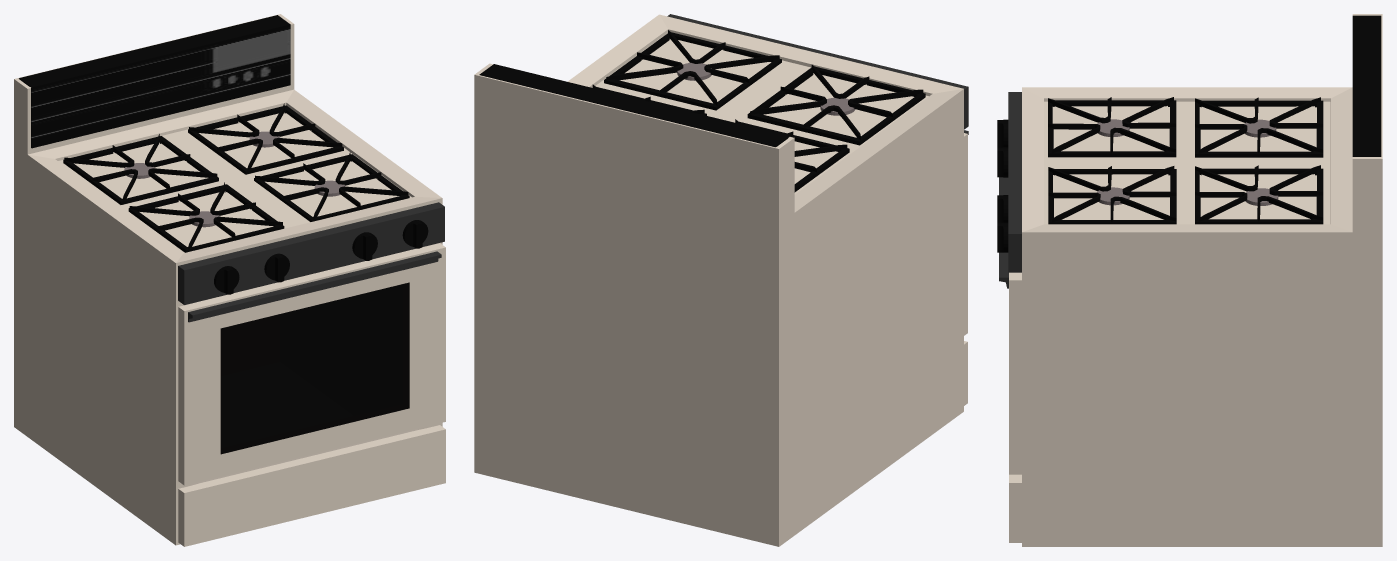
The model's file is stove1.obj.
The picture shows the model from 3 angles, left to right: view 1: azimuth 30°, elevation 25°; view 2: azimuth 150°, elevation 25°; view 3: azimuth 270°, elevation 25°; orthographic projection. The views are drawn at different scales.
Parts seen in each view (by area): view 1: stoveshell, ovenwindow, Ovendoor, PolyMesh_1, bottomstorage, Controlpanel, newcover_1, newcover_2, newcover_3, newcover, PolyMesh_4, knob_1 (+3 smaller); view 2: stoveshell, newcover_3, newcover, PolyMesh_1, newcover_2, Controlpanel, Ovendoor; view 3: stoveshell, newcover_3, newcover_2, PolyMesh_1, newcover_1, newcover, Ovendoor, Controlpanel, bottomstorage, PolyMesh_4.
Part boxes in pixels (x1,y1,x2,y2): stoveshell: [14, 14, 442, 545]; ovenwindow: [220, 282, 409, 454]; Ovendoor: [178, 243, 445, 485]; PolyMesh_1: [19, 15, 290, 148]; bottomstorage: [178, 425, 445, 546]; Controlpanel: [178, 202, 444, 304]; newcover_1: [188, 103, 343, 174]; newcover_2: [63, 134, 218, 204]; newcover_3: [128, 182, 284, 252]; newcover: [254, 152, 409, 221]; PolyMesh_4: [188, 251, 441, 322]; knob_1: [352, 232, 377, 260]; stoveshell: [474, 14, 963, 546]; newcover_3: [747, 64, 925, 145]; newcover: [604, 30, 781, 110]; PolyMesh_1: [479, 64, 789, 147]; newcover_2: [735, 119, 849, 192]; Controlpanel: [667, 14, 968, 129]; Ovendoor: [964, 133, 967, 335]; stoveshell: [1022, 14, 1382, 546]; newcover_3: [1048, 97, 1176, 157]; newcover_2: [1195, 97, 1323, 157]; PolyMesh_1: [1352, 15, 1381, 156]; newcover_1: [1195, 165, 1323, 224]; newcover: [1048, 166, 1176, 224]; Ovendoor: [1009, 272, 1021, 474]; Controlpanel: [1008, 92, 1021, 272]; bottomstorage: [1009, 474, 1021, 542]; PolyMesh_4: [999, 177, 1008, 288].
Bounding box in the file's own units: 6.12 × 7.64 × 6.87.
7 materials, 1 textured.
